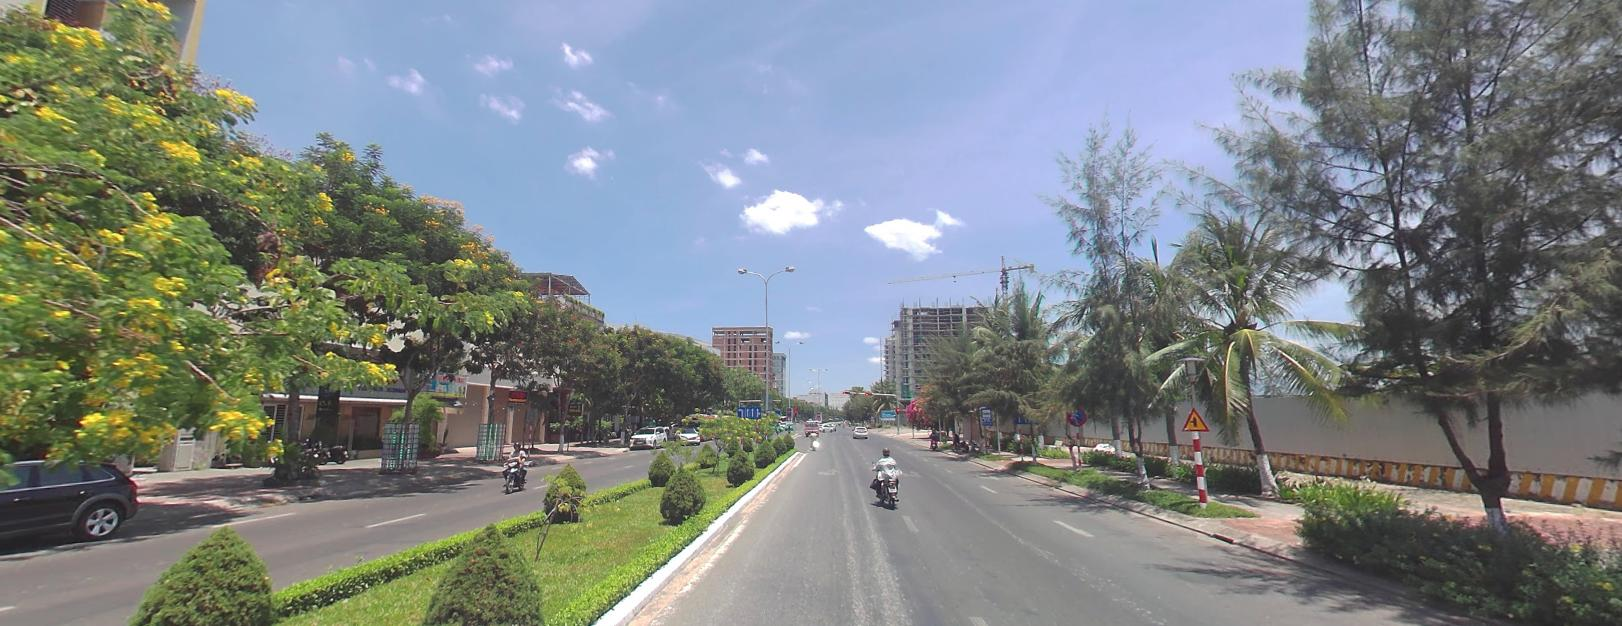Cam dung va do: (1067, 407, 1086, 424)
Nguy hiem: (1178, 406, 1210, 434)
